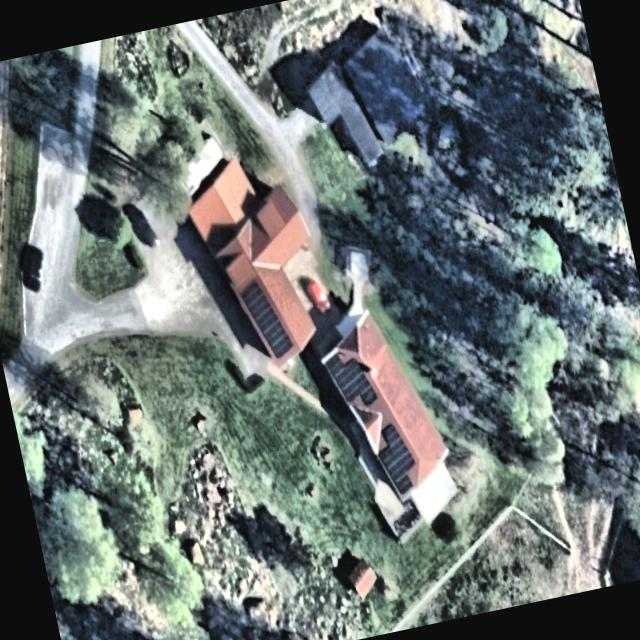roof_pv: (237, 269, 298, 368), (319, 342, 381, 418), (372, 419, 418, 499)
